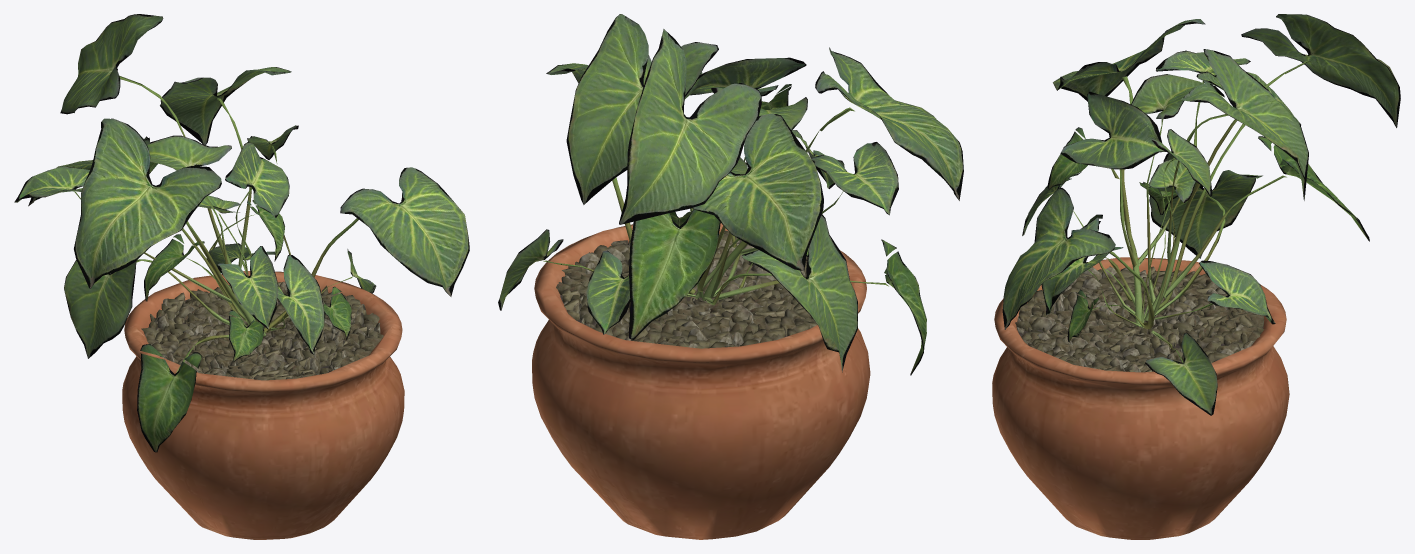
Rendered from pot.glb.
The picture shows the model from 3 angles, left to right: view 1: azimuth 30°, elevation 25°; view 2: azimuth 150°, elevation 25°; view 3: azimuth 270°, elevation 25°; orthographic projection. The views are drawn at different scales.
Visible parts, largest first — view 1: potted_plant_02_leaves, potted_plant_02_pot, potted_plant_02_dirt; view 2: potted_plant_02_leaves, potted_plant_02_pot, potted_plant_02_dirt; view 3: potted_plant_02_leaves, potted_plant_02_pot, potted_plant_02_dirt.
Boxes of the visible parts, x1,y1,x2,y2 form: potted_plant_02_leaves: (14, 14, 469, 452); potted_plant_02_pot: (122, 271, 404, 539); potted_plant_02_dirt: (141, 281, 383, 380); potted_plant_02_leaves: (498, 14, 963, 375); potted_plant_02_pot: (532, 217, 870, 539); potted_plant_02_dirt: (556, 230, 817, 348); potted_plant_02_leaves: (1002, 14, 1400, 415); potted_plant_02_pot: (992, 257, 1289, 539); potted_plant_02_dirt: (1015, 266, 1264, 372).
Size of the model in its own units: 0.6922 by 0.8344 by 0.6496.
Materials: 2 (2 with a texture image).
